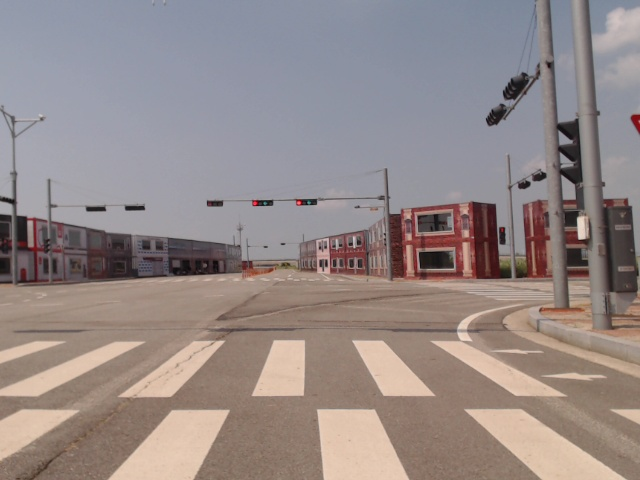left_green_4: (252, 201, 274, 206), (296, 200, 317, 205)
